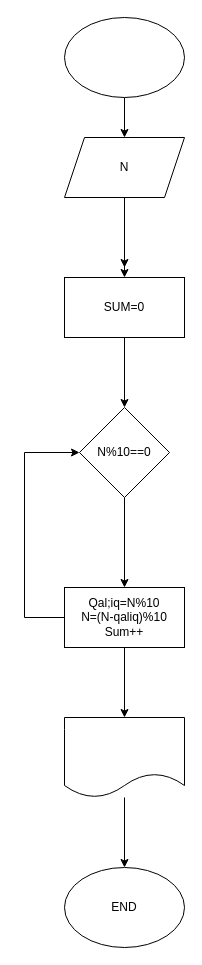
Image size: 202x965. Some labels were removed from this diagram. Here are the shapes that lost their labels. From the top down, the centre of each, then its label:
At (x=124, y=57): "START".
At (x=124, y=757): "SUM".
